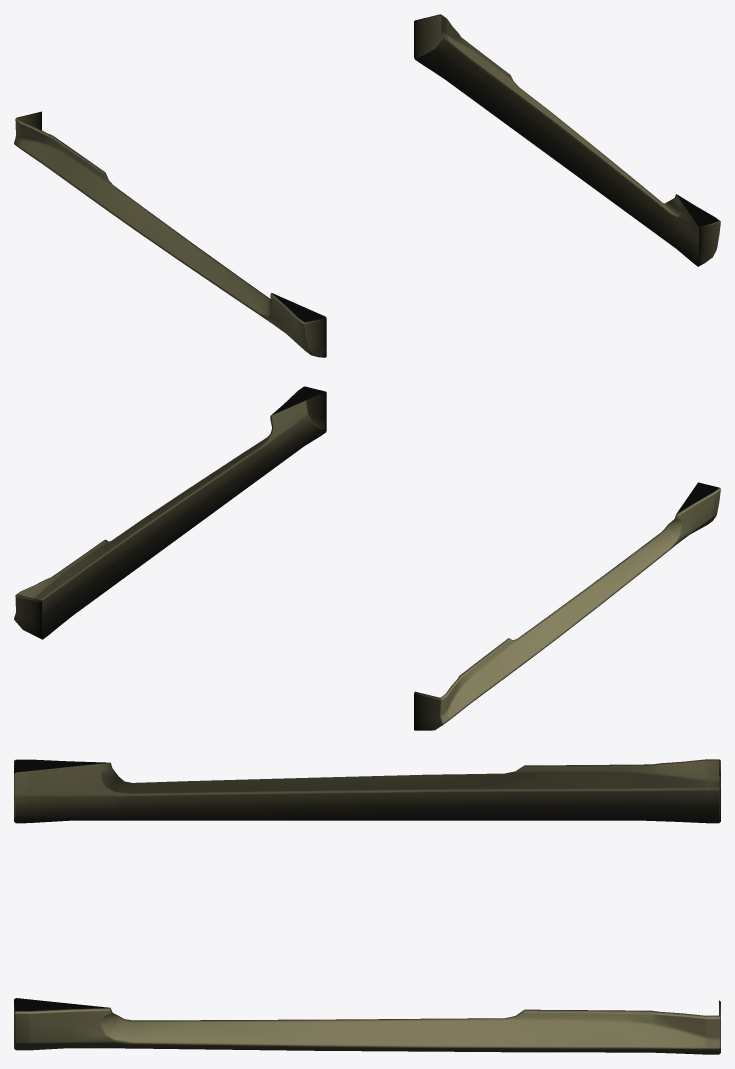
File: G37_Skirt_03_Duco.fbx
3 views of the same model, one above another, from view 1: azimuth 30°, elevation 25°; view 2: azimuth 150°, elevation 25°; view 3: azimuth 270°, elevation 25° (orthographic). The views are drawn at different scales.
Visible parts, largest first — view 1: G37_Skirt_03_Duco; view 2: G37_Skirt_03_Duco; view 3: G37_Skirt_03_Duco.
Boxes of the visible parts, x1,y1,x2,y2 form: G37_Skirt_03_Duco: [14, 14, 720, 357]; G37_Skirt_03_Duco: [14, 386, 720, 730]; G37_Skirt_03_Duco: [14, 759, 720, 1054].
Bounding box in the file's own units: 181 × 16.55 × 208.
